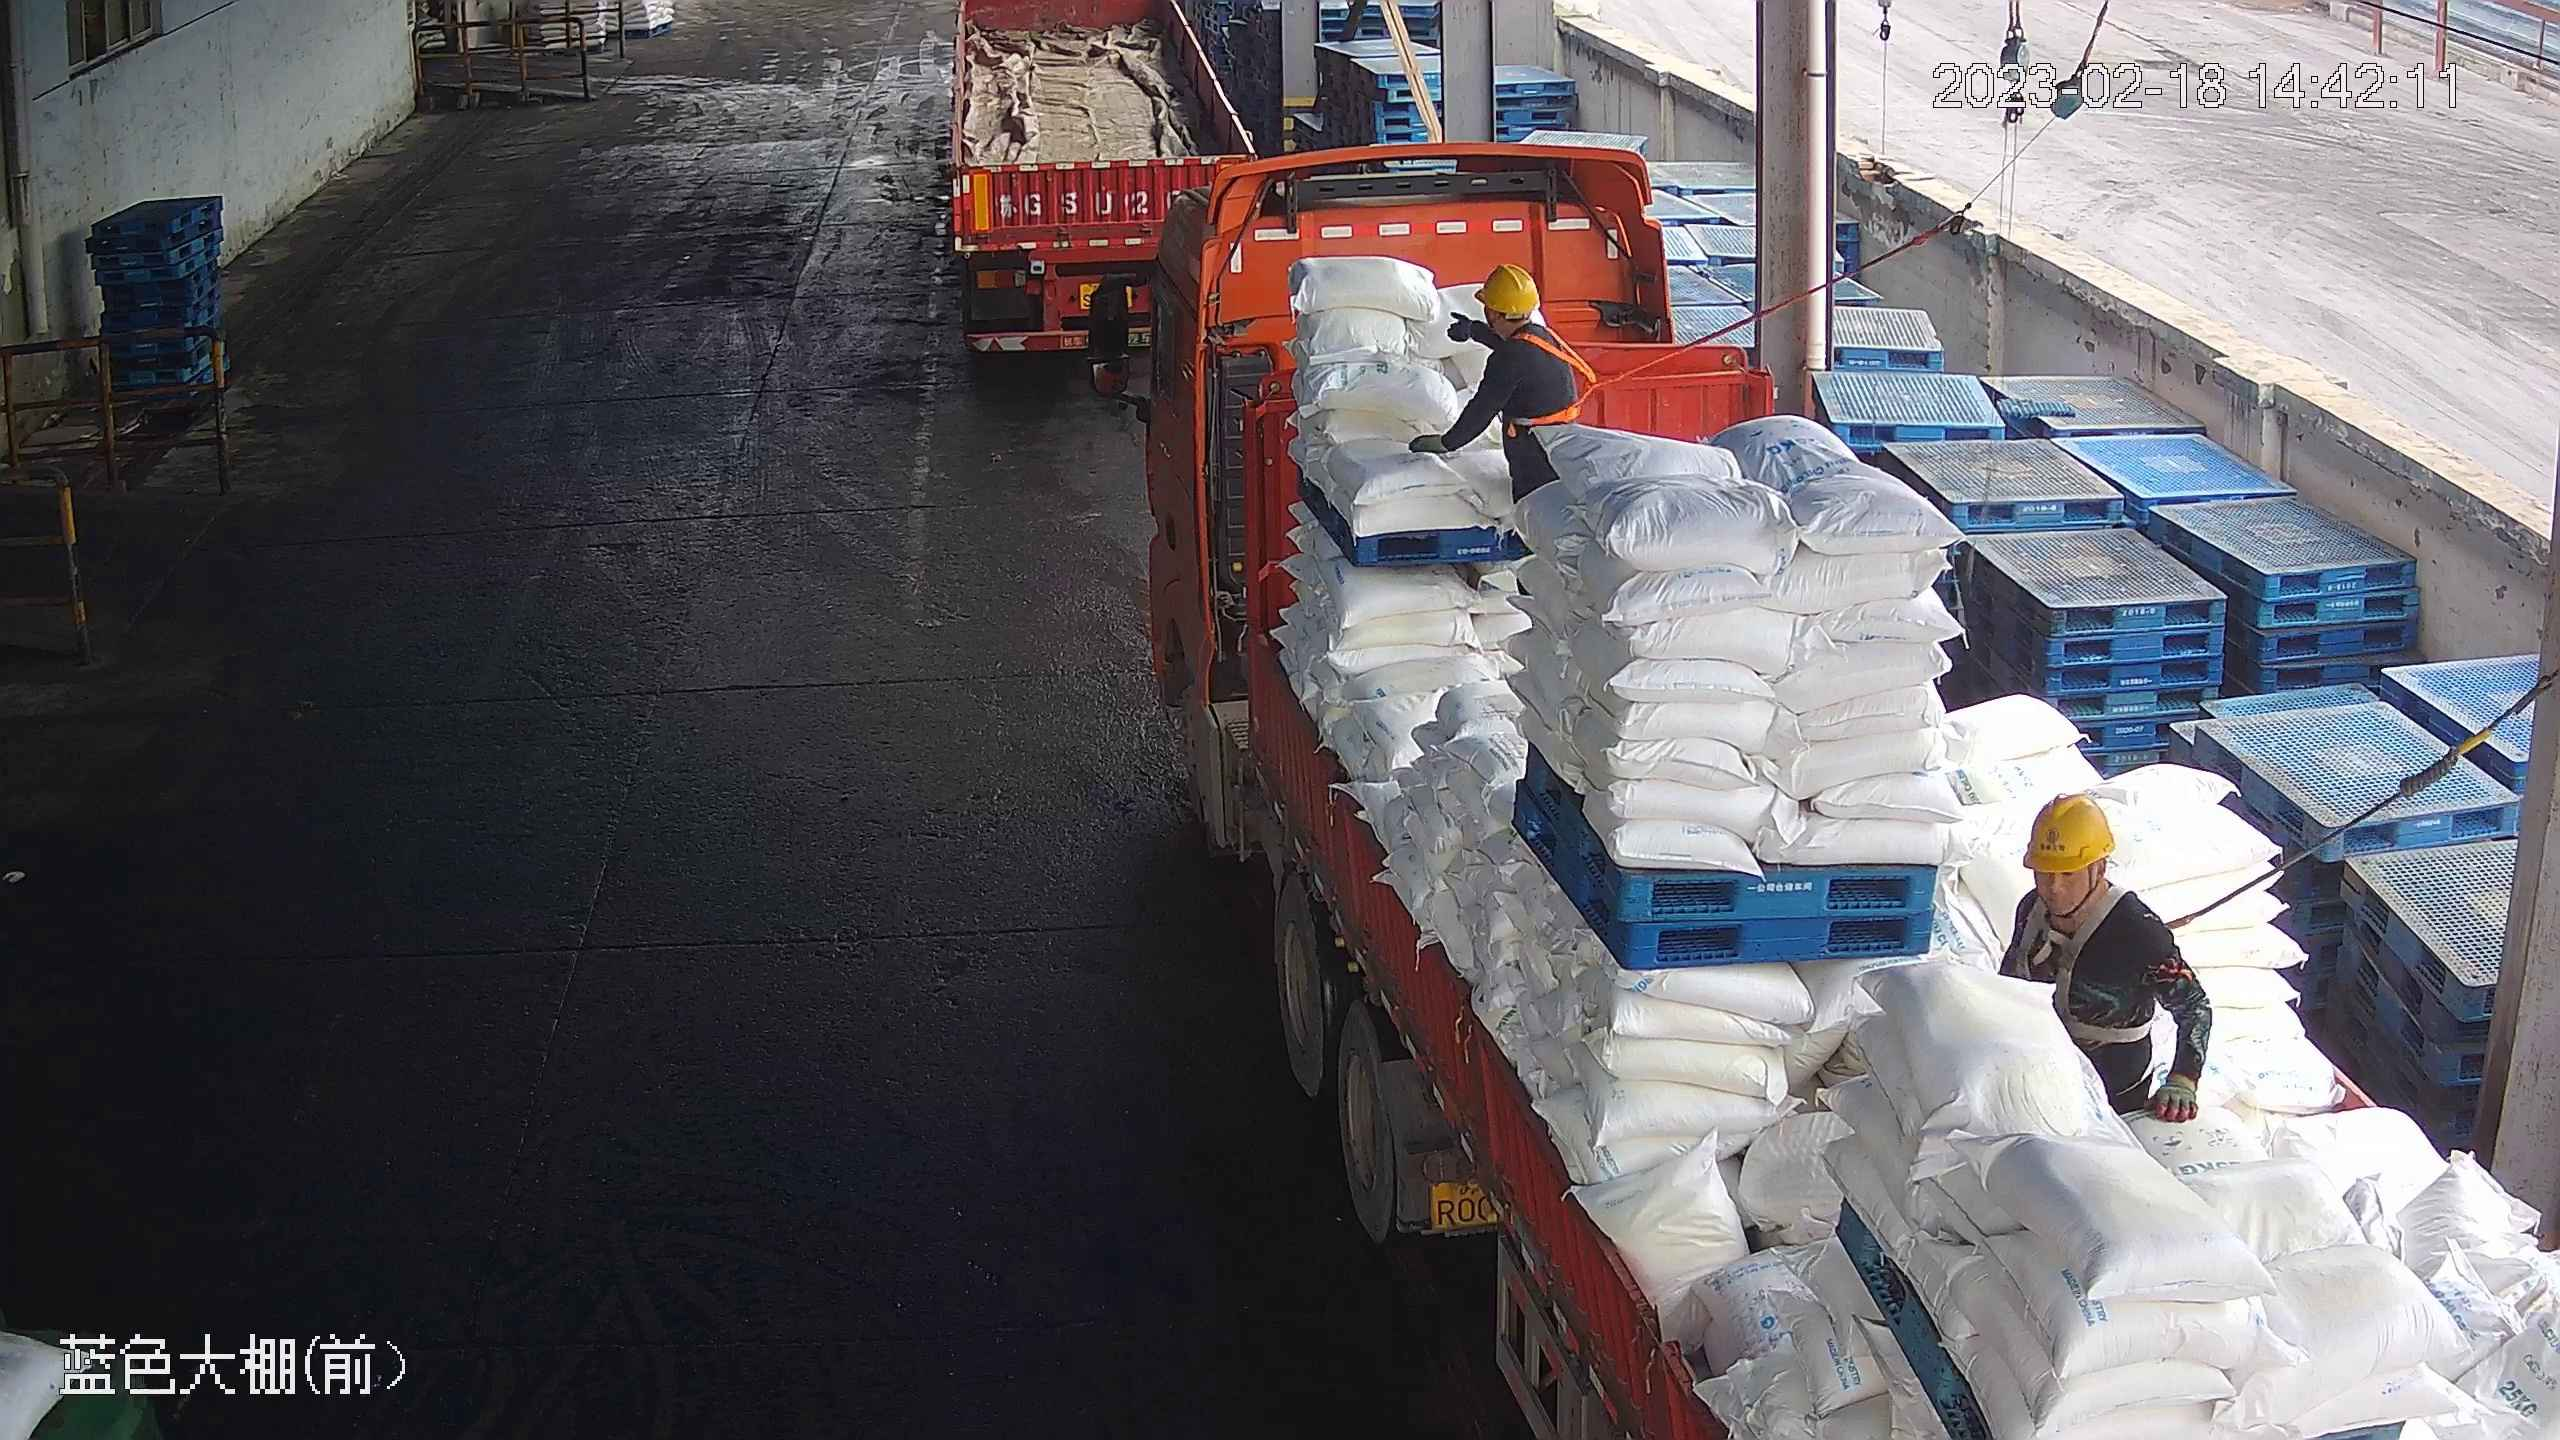belt: (2032, 891, 2130, 1025), (1507, 326, 1594, 427)
head: (2010, 790, 2168, 962), (1463, 260, 1567, 373)
helmet: (2016, 790, 2118, 873), (1474, 260, 1542, 314)
people: (1408, 260, 1582, 517)
truck: (1083, 138, 2555, 1439), (947, 1, 1262, 365)
